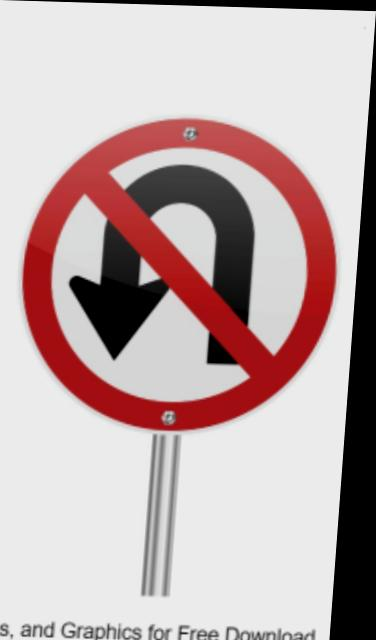not_u_turn_left: (11, 108, 352, 433)
